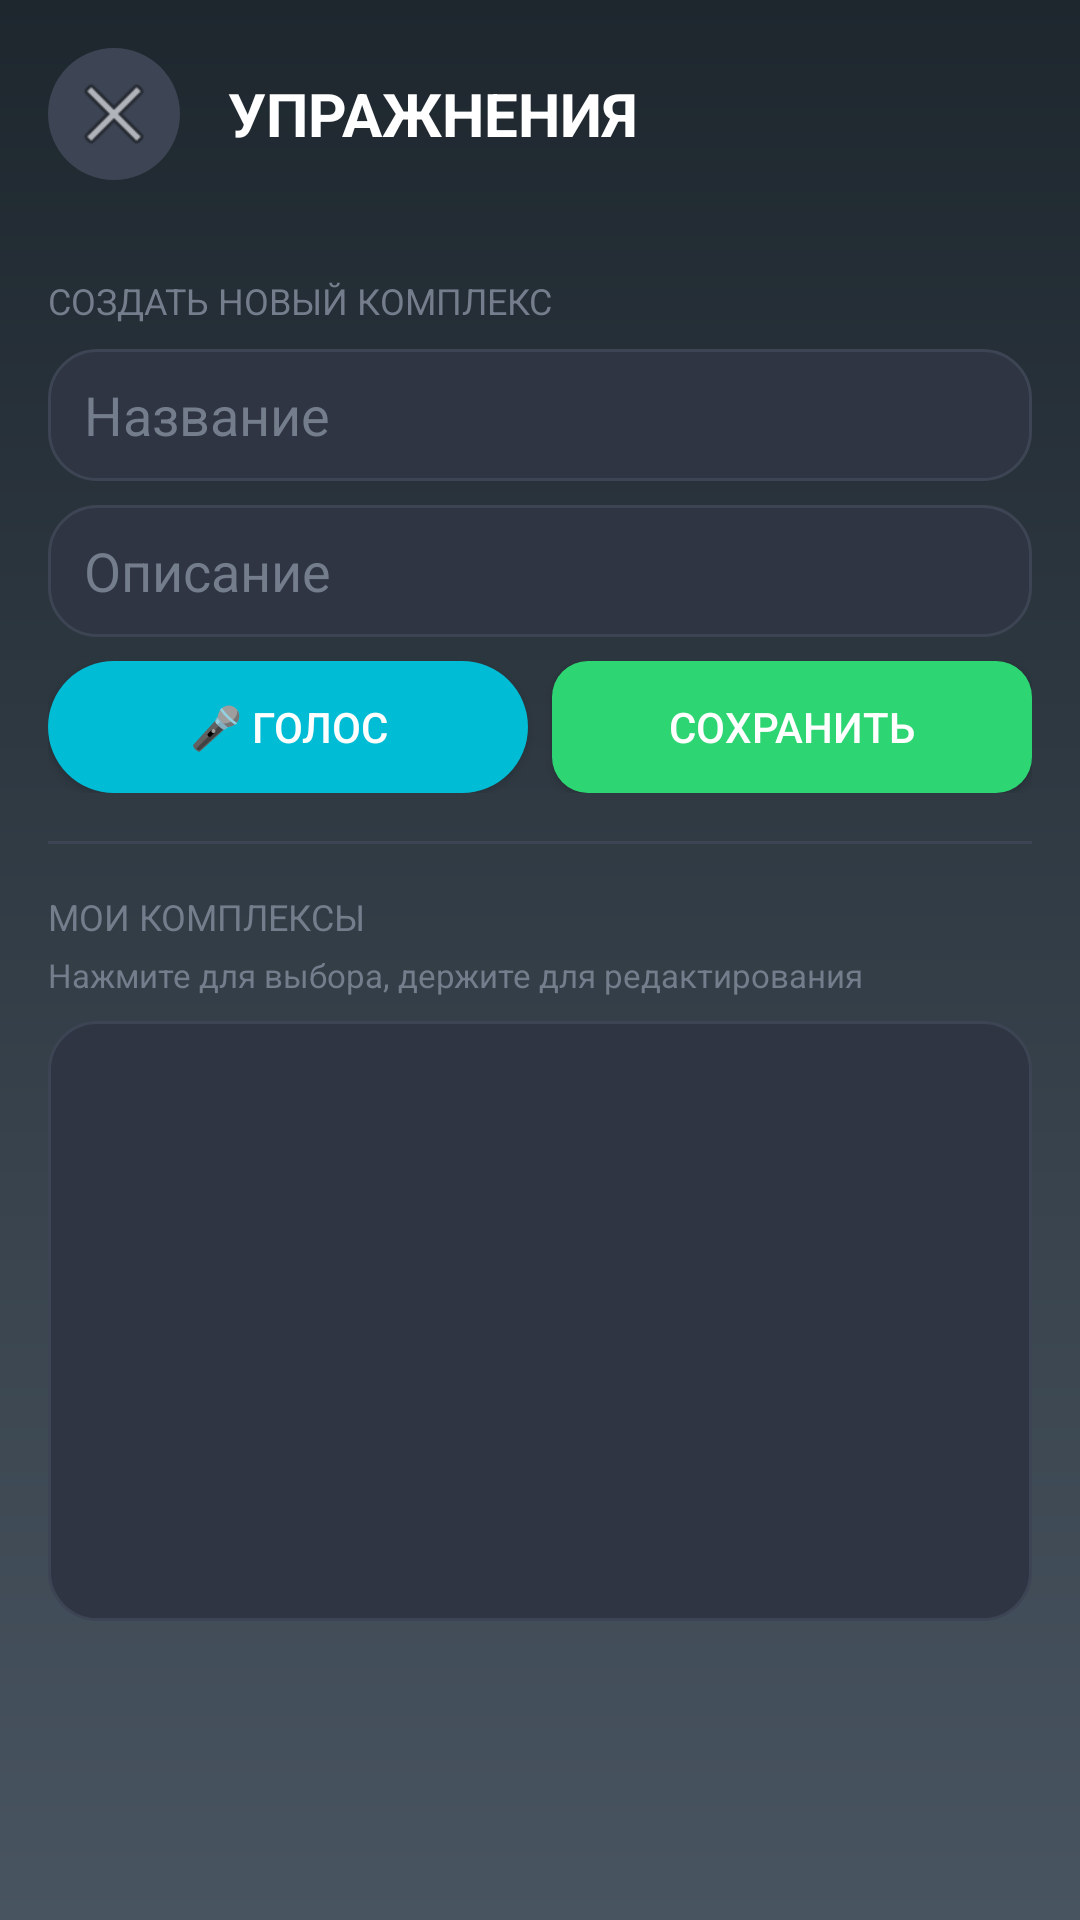

Where icons sit on this 1080 x 1920 app screen, as (x1,y1,x2,y2):
Назад: (48,48,180,180)
